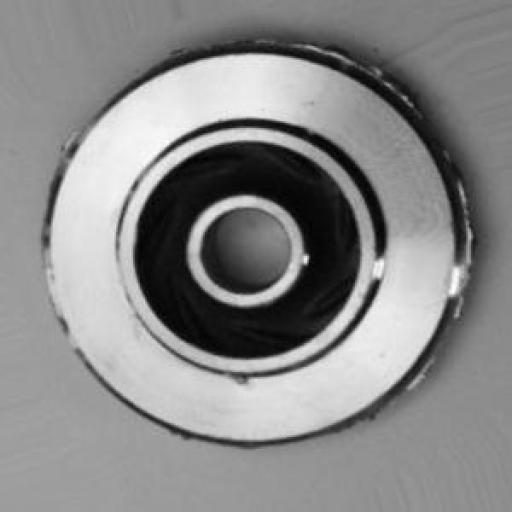defect: (35, 33, 488, 463)
